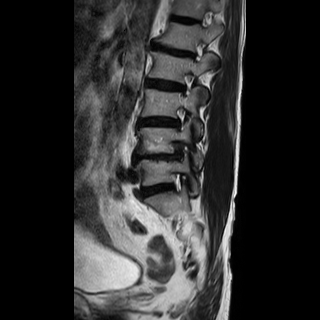LFS0: (175, 67, 199, 101), (169, 102, 192, 134), (185, 37, 209, 66)
LFS3: (168, 137, 196, 169)
